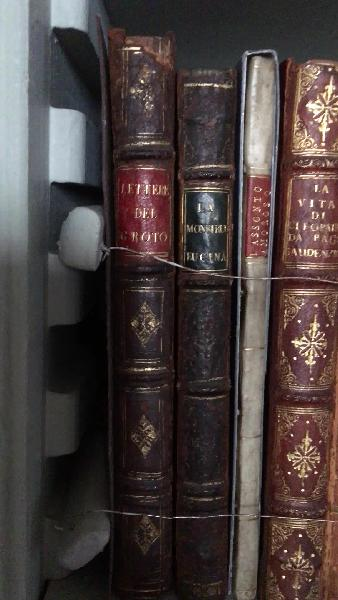Aa6-1: (99, 23, 185, 600)
Aa6-2: (174, 49, 239, 600)
Aa6-3: (231, 29, 278, 595)
Aa6-4: (260, 45, 338, 600)
